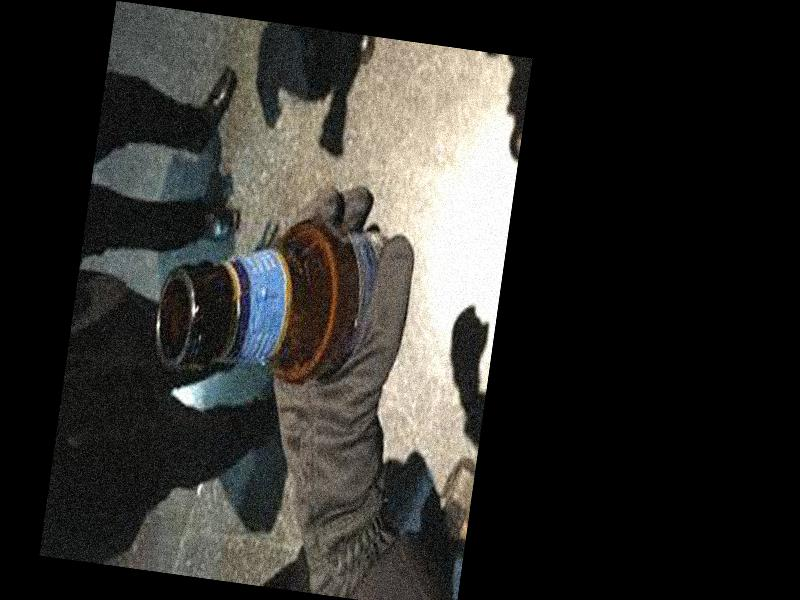Beer: (149, 191, 405, 401)
